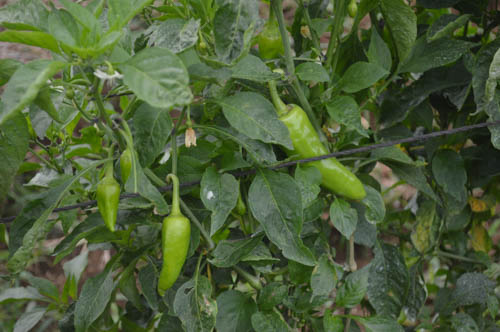ChiliPepper: (279, 108, 367, 200), (159, 216, 189, 293), (93, 185, 121, 226), (256, 30, 286, 64)
